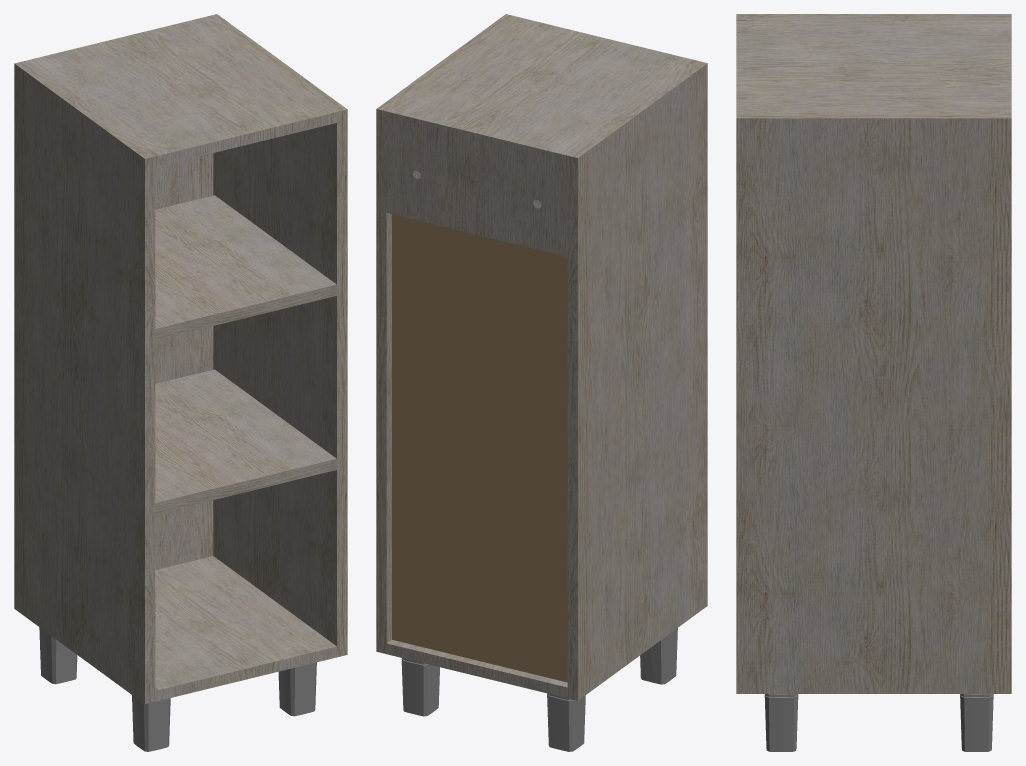
3 views of the same model, side by side, from view 1: azimuth 30°, elevation 25°; view 2: azimuth 150°, elevation 25°; view 3: azimuth 270°, elevation 25° (orthographic). The views are drawn at different scales.
Visible parts, largest first — view 1: Cube, group_0.002, group_0.001, group_0.365, group_0.326, group_0.327, group_0.329; view 2: Cube, group_0.365, group_0.329, group_0.328, group_0.326; view 3: Cube, group_0.328, group_0.327.
Part boxes in pixels (box(x1,y1,x2,y2)): Cube: box(14, 14, 347, 704); group_0.002: box(155, 369, 336, 513); group_0.001: box(155, 195, 336, 339); group_0.365: box(155, 153, 213, 569); group_0.326: box(132, 695, 170, 751); group_0.327: box(278, 662, 316, 716); group_0.329: box(39, 627, 77, 684); Cube: box(376, 14, 707, 700); group_0.365: box(392, 214, 567, 682); group_0.329: box(547, 694, 585, 751); group_0.328: box(401, 658, 439, 716); group_0.326: box(640, 628, 677, 684); Cube: box(736, 14, 1011, 693); group_0.328: box(960, 694, 993, 751); group_0.327: box(764, 694, 798, 751).
Bounding box in the file's own units: 0.35 × 1 × 0.3903.
6 materials, 4 textured.
